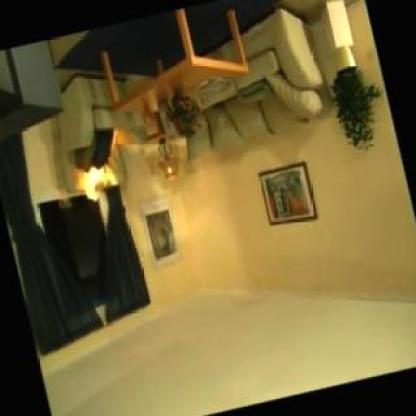Fire: (78, 162, 110, 216)
